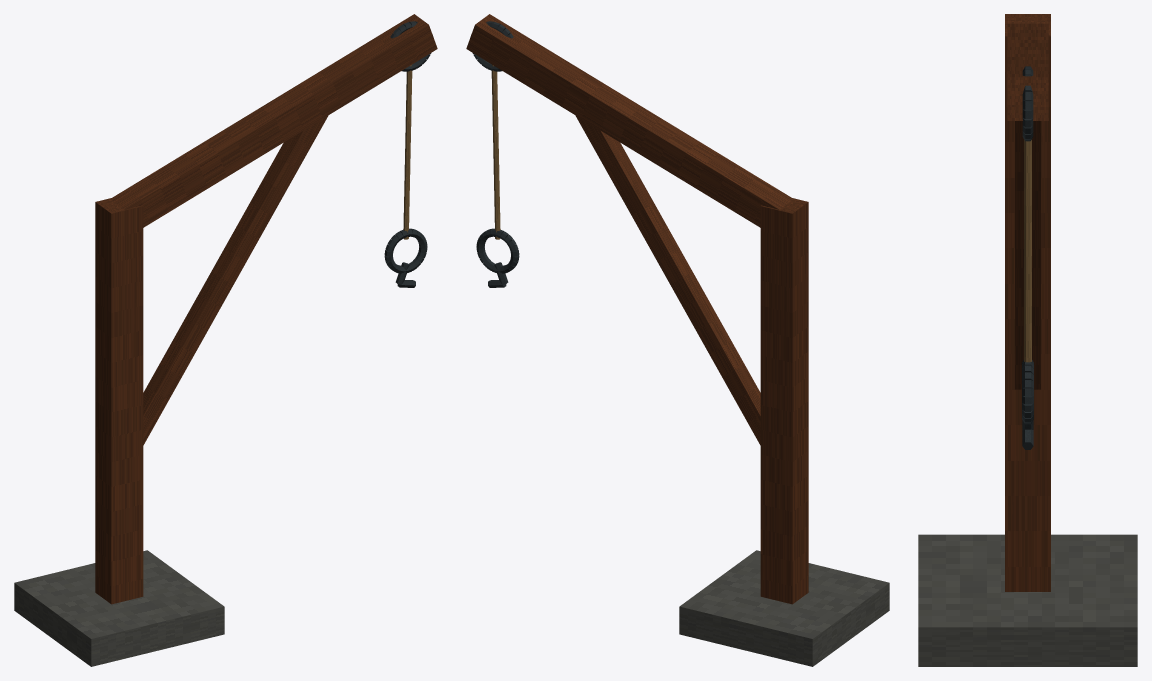
Rendered from SM_dock_crane.gltf.
3 renders of one model, left to right at view 1: azimuth 30°, elevation 25°; view 2: azimuth 150°, elevation 25°; view 3: azimuth 270°, elevation 25°, orthographic. The views are drawn at different scales.
Visible parts, largest first — view 1: root, hook; view 2: root, hook; view 3: root, hook.
Part boxes in pixels (left/top/right/bottom): root: left=14, top=14, right=437, bottom=666; hook: left=384, top=228, right=427, bottom=287; root: left=466, top=14, right=889, bottom=666; hook: left=476, top=228, right=519, bottom=287; root: left=918, top=14, right=1137, bottom=666; hook: left=1022, top=360, right=1033, bottom=449.
Size of the model in its own units: 2.85 by 3.79 by 1.
4 materials, 4 textured.
